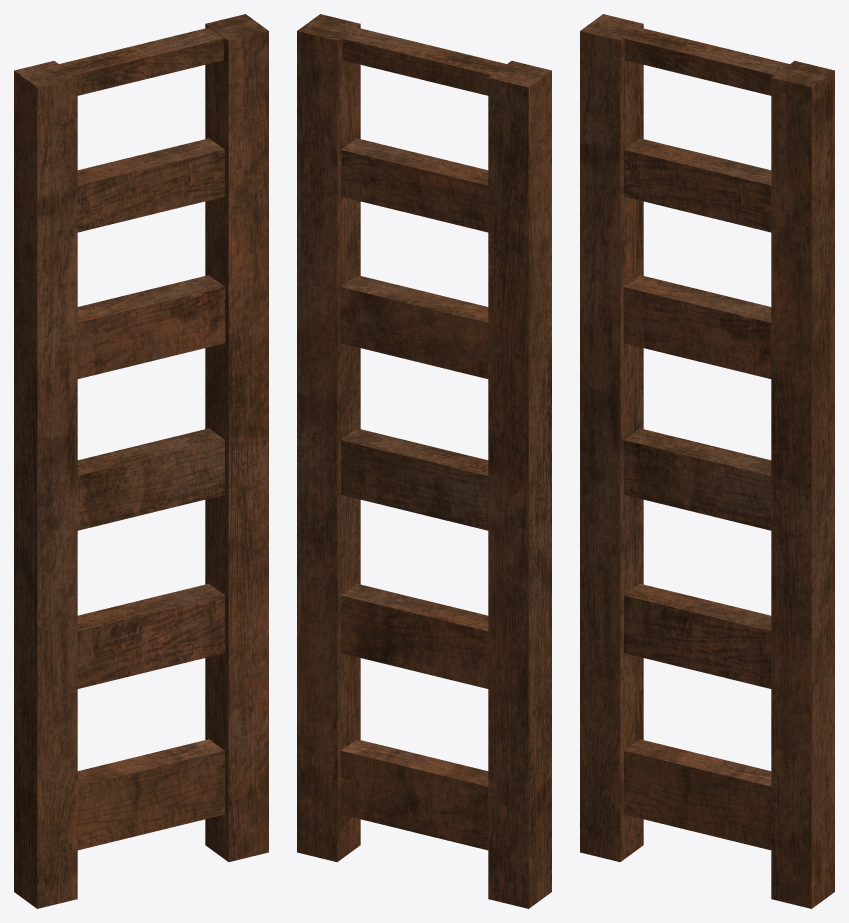
File: Escalera.fbx
3 views of the same model, side by side, from view 1: azimuth 30°, elevation 25°; view 2: azimuth 150°, elevation 25°; view 3: azimuth 330°, elevation 25° (orthographic).
Parts seen in each view (by area): view 1: Cube.020; view 2: Cube.020; view 3: Cube.020.
Part boxes in pixels (left/top/right/bottom): Cube.020: left=14, top=14, right=268, bottom=908; Cube.020: left=297, top=14, right=551, bottom=908; Cube.020: left=580, top=14, right=834, bottom=908.
Bounding box in the file's own units: 608 × 2059 × 106.
1 material, 1 textured.
